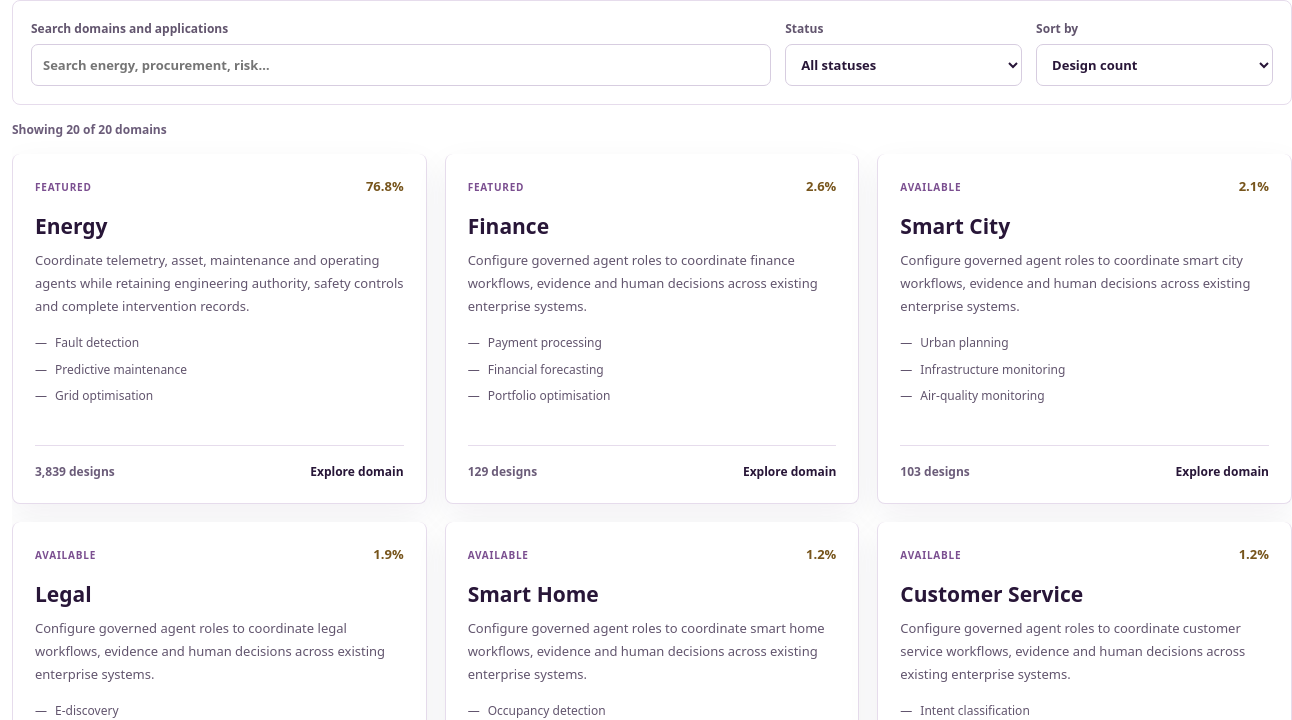
Test: Nexus catalogue and navigation › filters domains by searchable application content
The width and height of the screenshot is (1292, 720).
Expected: the text "Showing 20 of 20 domains" is shown, [12,121,167,138]
Step 1. Type "adaptive tutoring" into the search field → (401, 65), box [31,44,771,86]
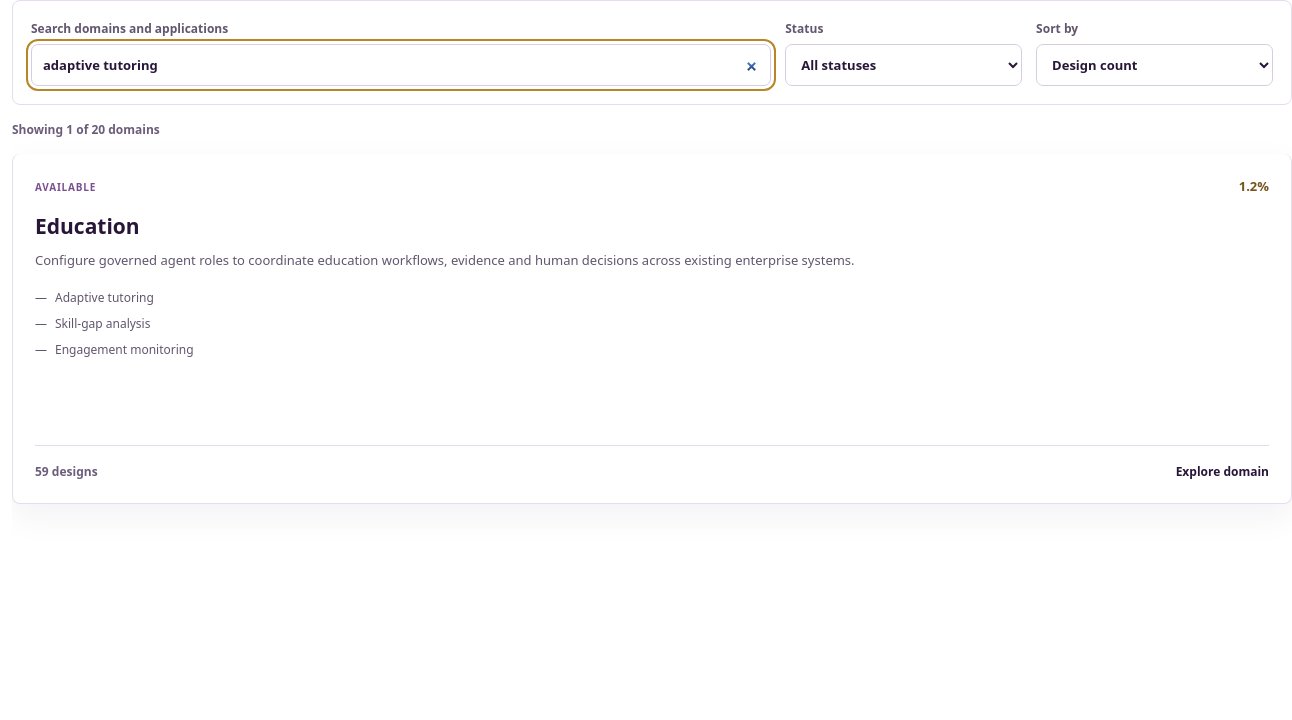
Expected: the heading "Education" is shown, [35,212,140,240]
Now the text "Showing 1 of 20 domains" is shown, box [12,121,160,138]
Now the link "Energy" is gone
